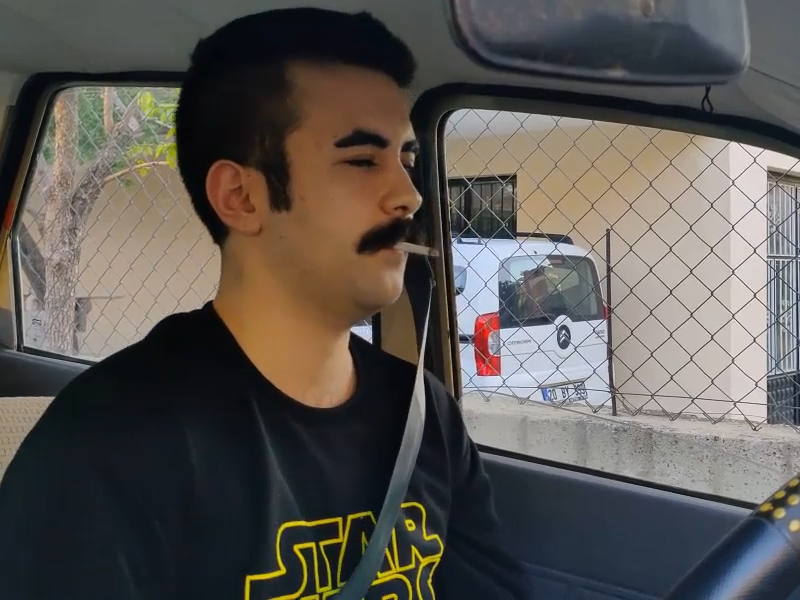sigara: (388, 236, 446, 261)
